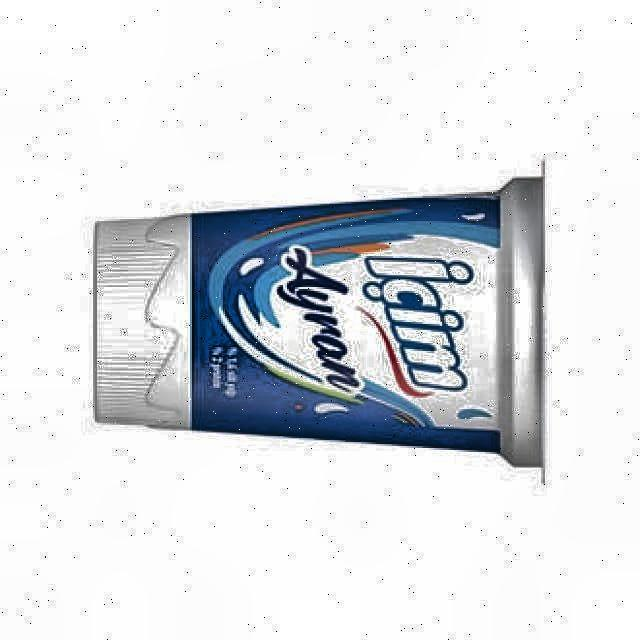plastic: (93, 175, 543, 467)
